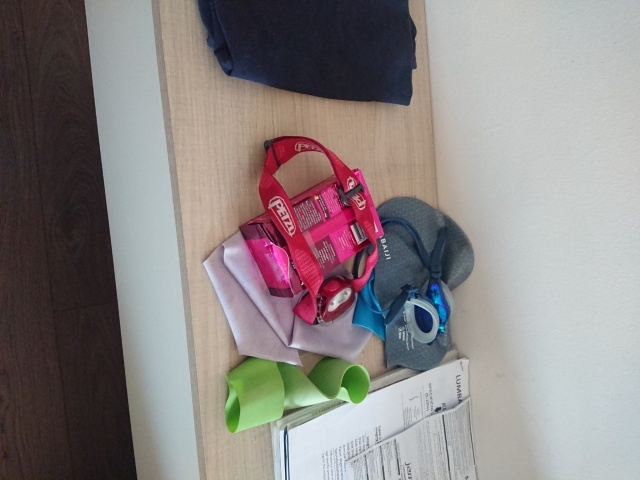Barcaffe Classic Original 225g: (237, 166, 387, 300)
